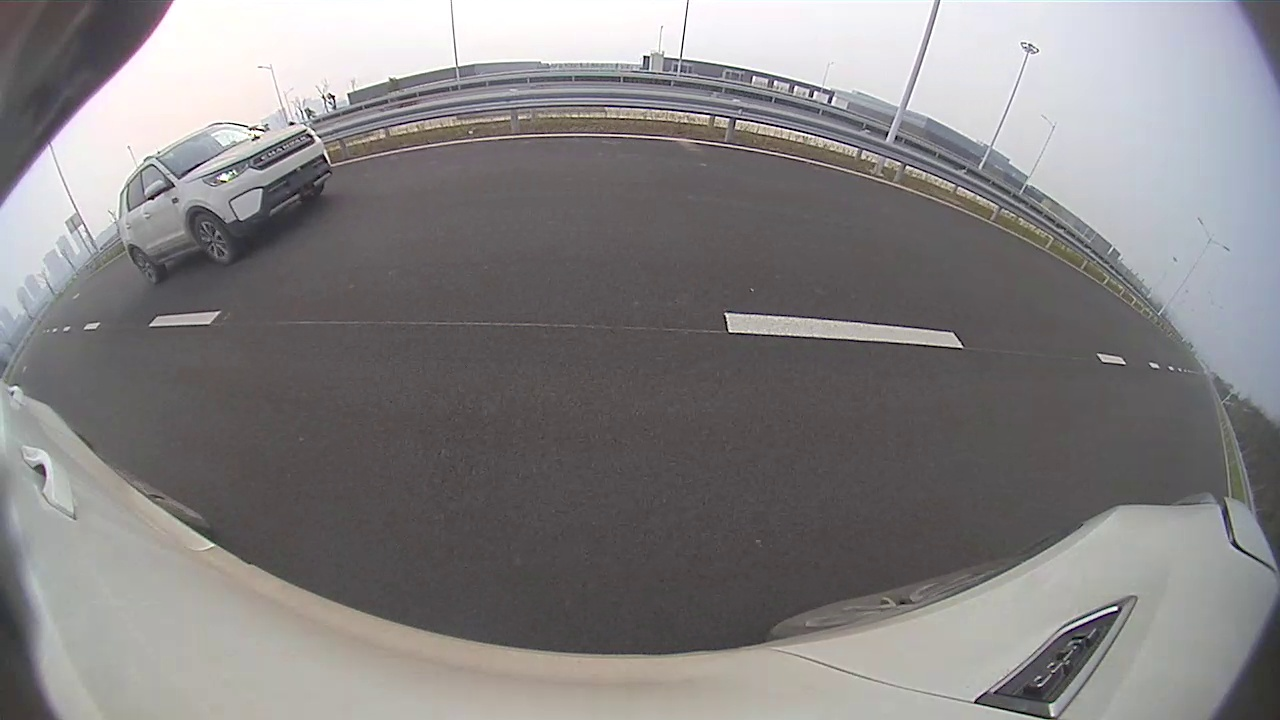car: (118, 122, 332, 284)
front: (192, 217, 237, 267)
rear: (128, 246, 160, 284)
